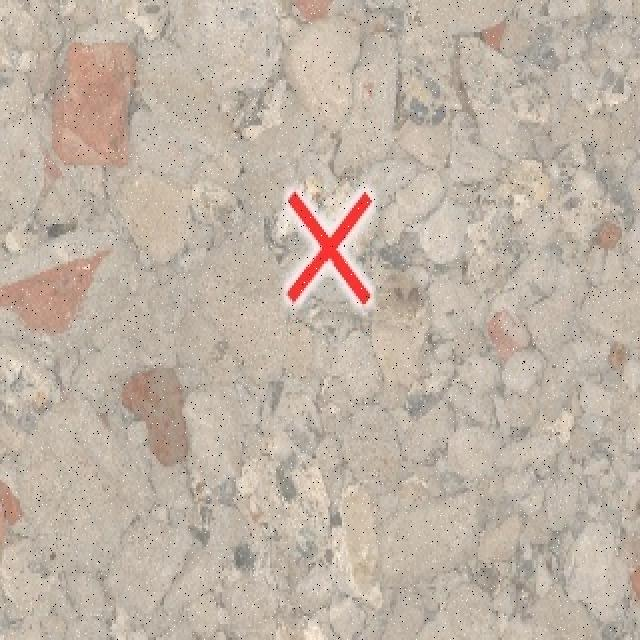x_marker: (287, 190, 371, 302)
